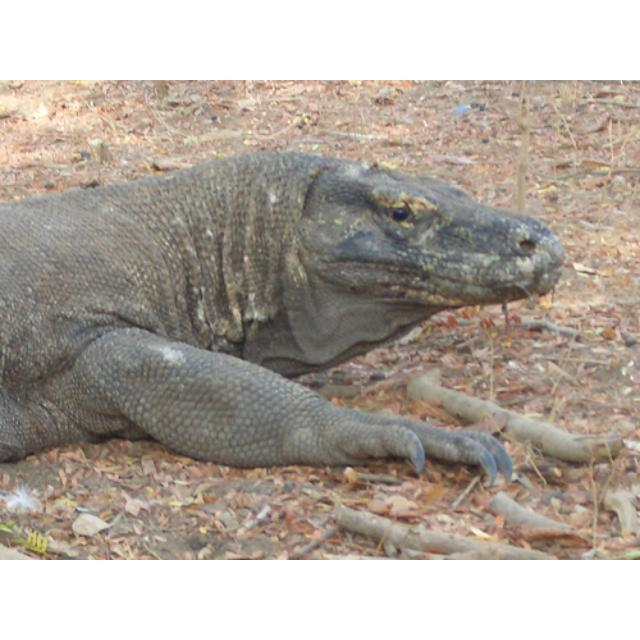KomodoDragon: (0, 149, 558, 485)
